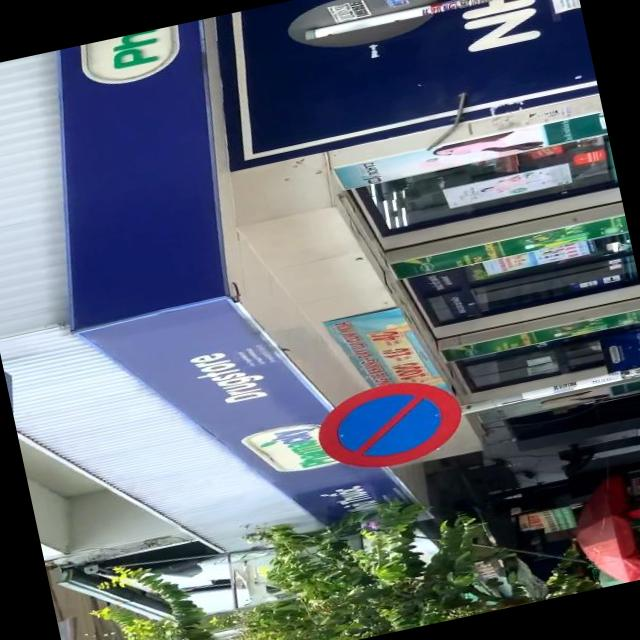P-131a: (310, 371, 468, 479)
